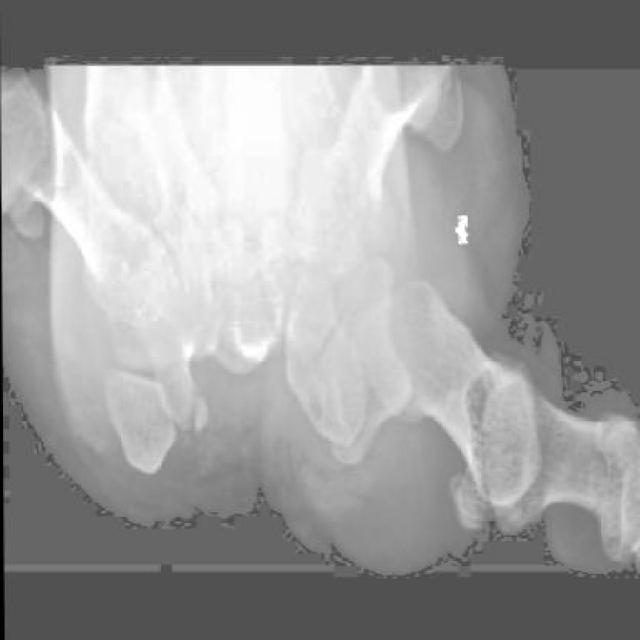Fracture: (177, 391, 219, 440)
